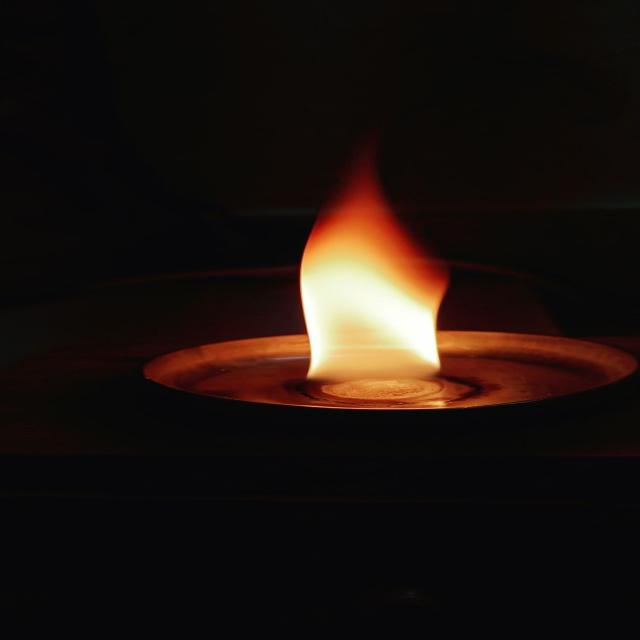fire: (302, 159, 441, 380)
